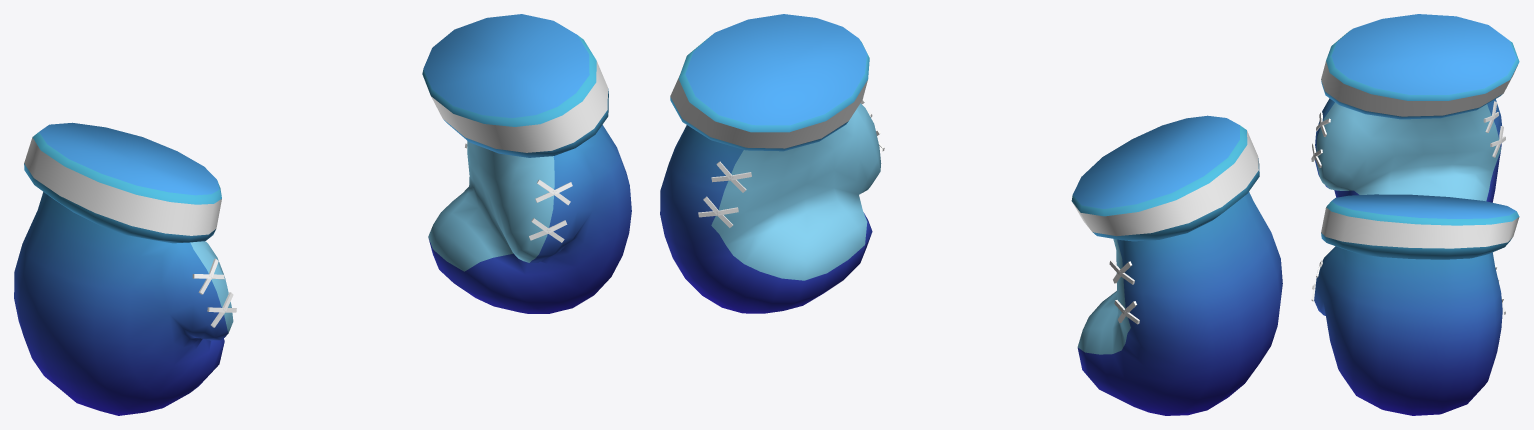
The model's file is gloves3.fbx.
3 renders of one model, left to right at view 1: azimuth 30°, elevation 25°; view 2: azimuth 150°, elevation 25°; view 3: azimuth 270°, elevation 25°, orthographic. The views are drawn at different scales.
Parts seen in each view (by area): view 1: 3, 3.001; view 2: 3.001, 3; view 3: 3.001, 3.
Boxes of the visible parts, x1,y1,x2,y2 form: 3: (14, 122, 236, 415); 3.001: (422, 14, 631, 313); 3.001: (660, 14, 884, 313); 3: (1071, 115, 1282, 415); 3.001: (1311, 194, 1519, 415); 3: (1311, 14, 1519, 202).
Size of the model in its own units: 1.43 by 0.608 by 0.5471.
